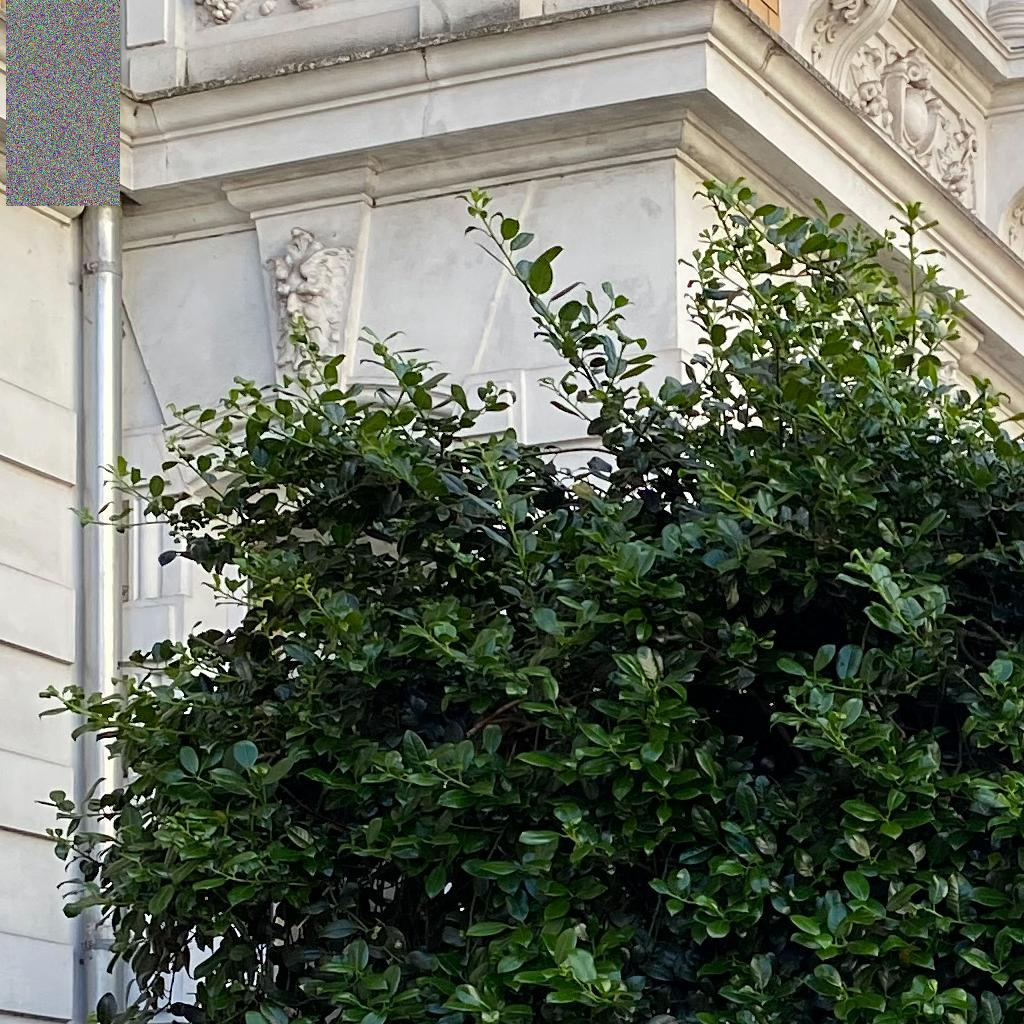tree: (35, 176, 1023, 1023)
